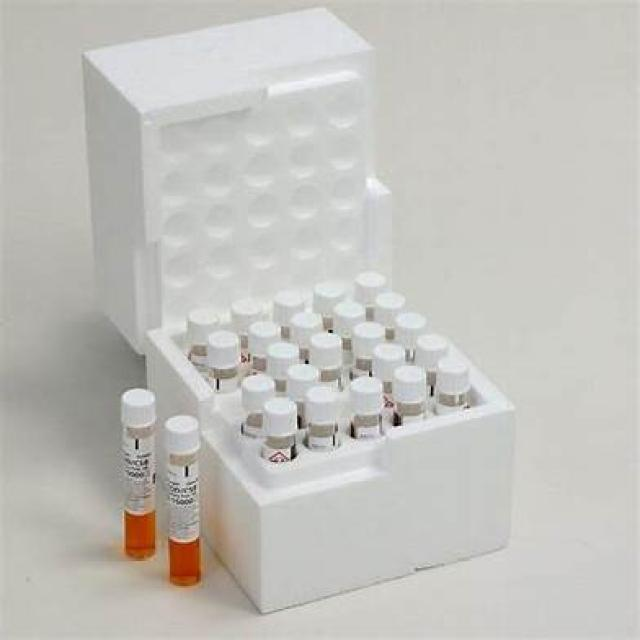vial: (346, 377, 388, 403), (368, 340, 408, 364), (119, 388, 157, 412), (204, 329, 242, 353), (165, 416, 201, 440), (262, 397, 300, 419), (354, 272, 386, 298), (306, 384, 342, 406), (186, 308, 222, 330), (436, 357, 470, 379), (376, 290, 410, 312), (286, 363, 322, 383), (392, 365, 424, 387), (312, 332, 344, 354), (274, 296, 310, 314), (230, 298, 266, 316), (333, 298, 365, 318), (353, 322, 385, 342), (268, 340, 300, 360), (397, 312, 422, 334), (248, 322, 282, 338), (422, 332, 448, 352), (311, 284, 343, 300), (292, 316, 324, 332), (242, 372, 274, 388)
